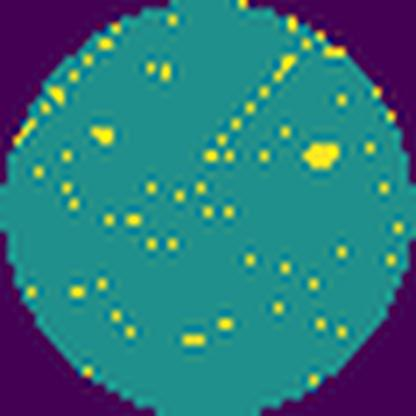Loc: (302, 139, 344, 170)
